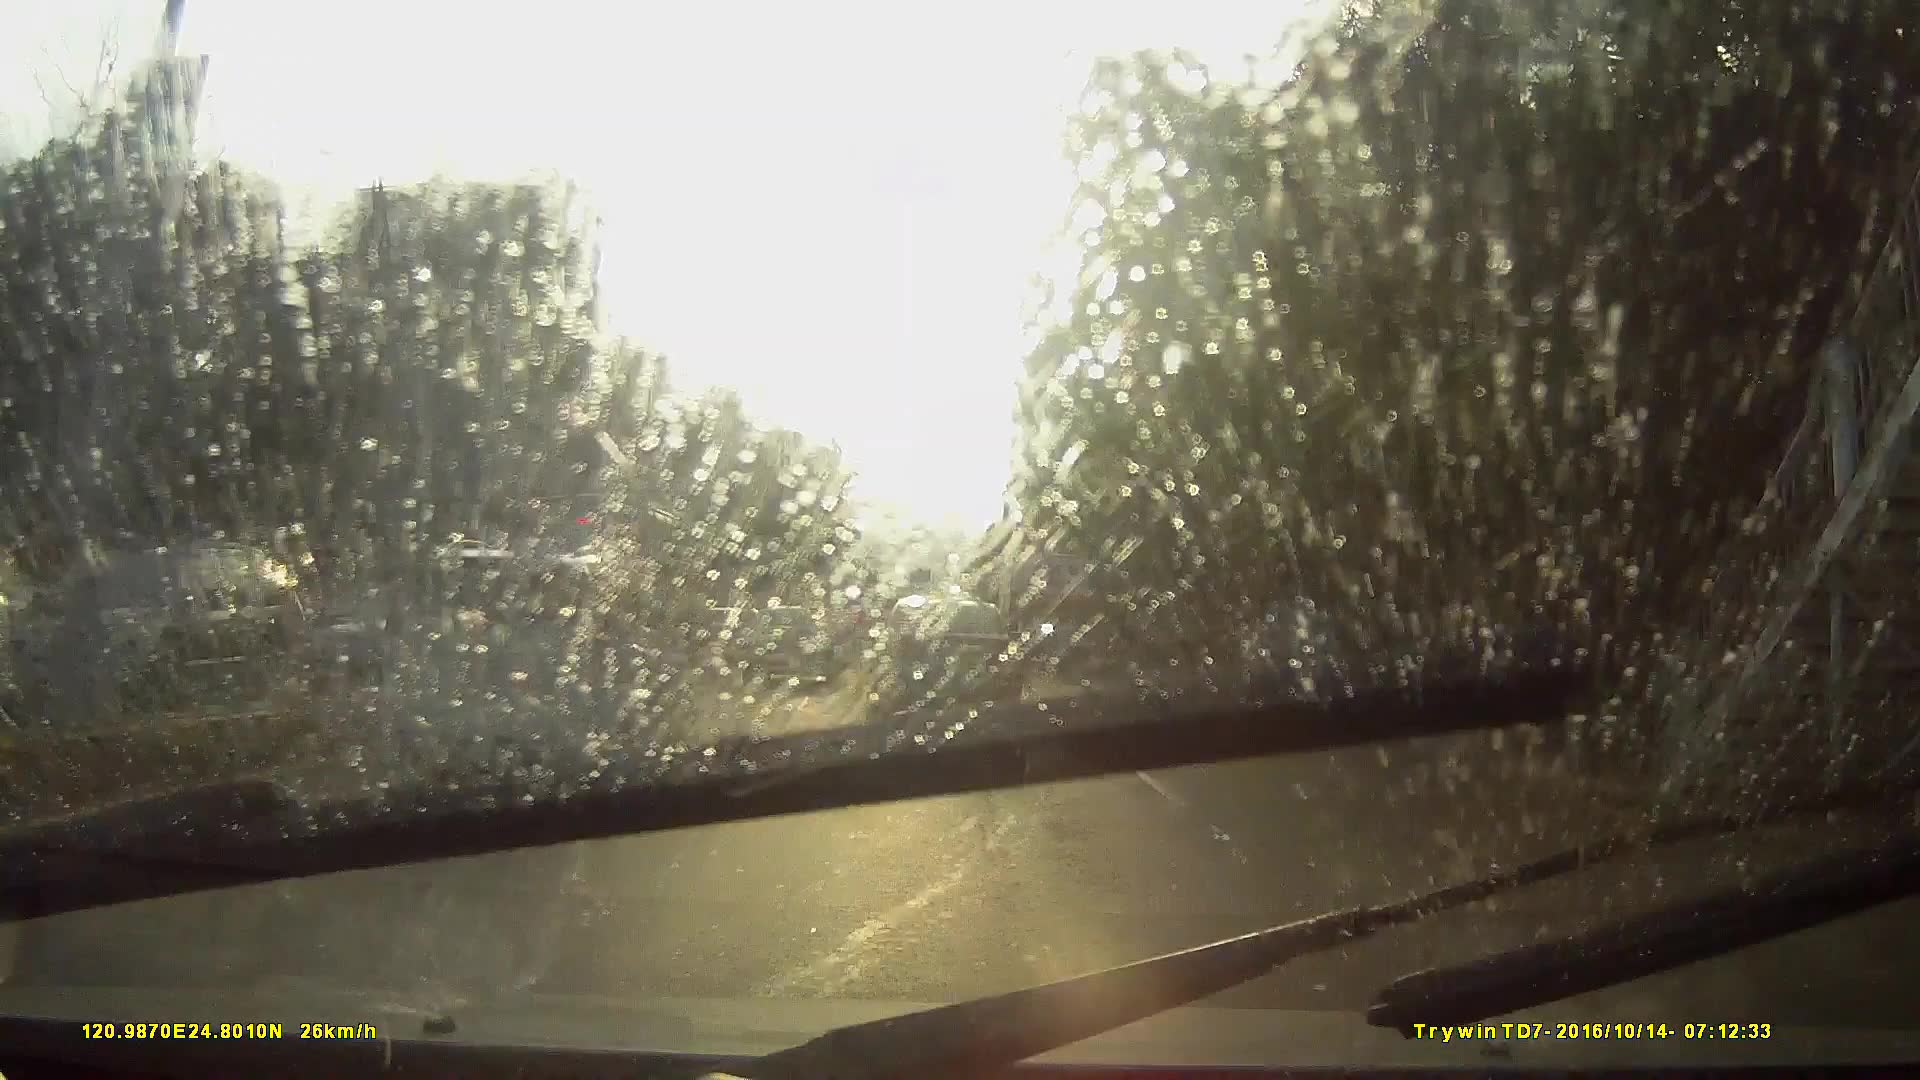vehicle: (251, 556, 684, 868), (381, 543, 696, 793), (495, 492, 723, 665), (865, 593, 1025, 757), (996, 556, 1100, 682), (735, 608, 845, 694), (866, 638, 915, 687)
